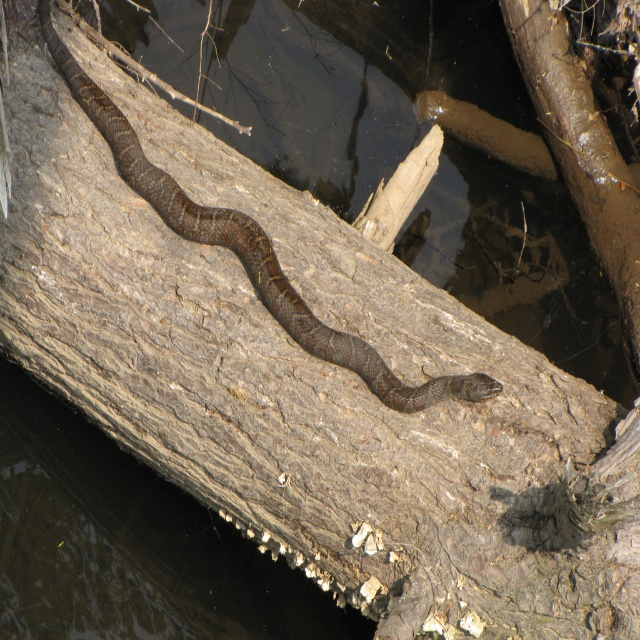Snake: (37, 0, 506, 414)
